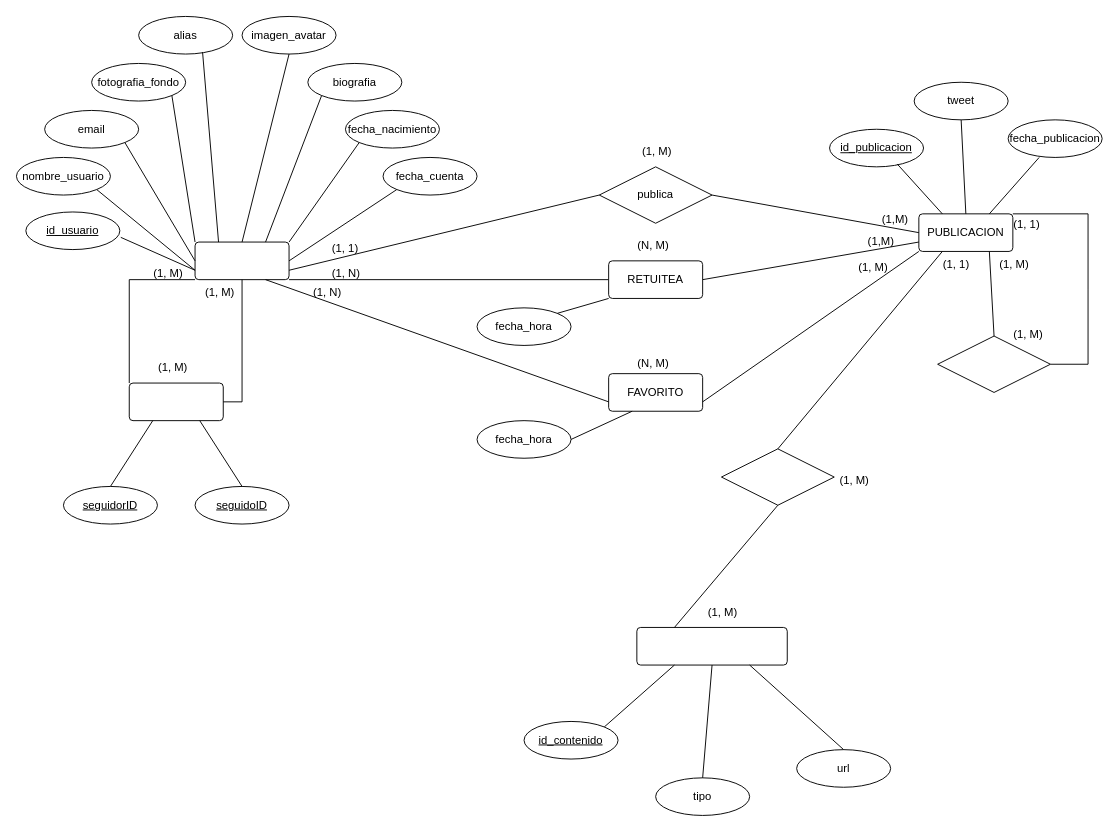
This 1119x832 diagram has some shape labels left out. Here are the shapes that lost their labels. From the top down, the box of each, then its label:
(194, 241, 289, 280): USUARIO
(937, 335, 1050, 392): responde
(128, 382, 223, 421): SEGUIMIENTO
(721, 448, 834, 505): contiene
(636, 627, 787, 665): CONTENIDO_MULTIMEDIA
